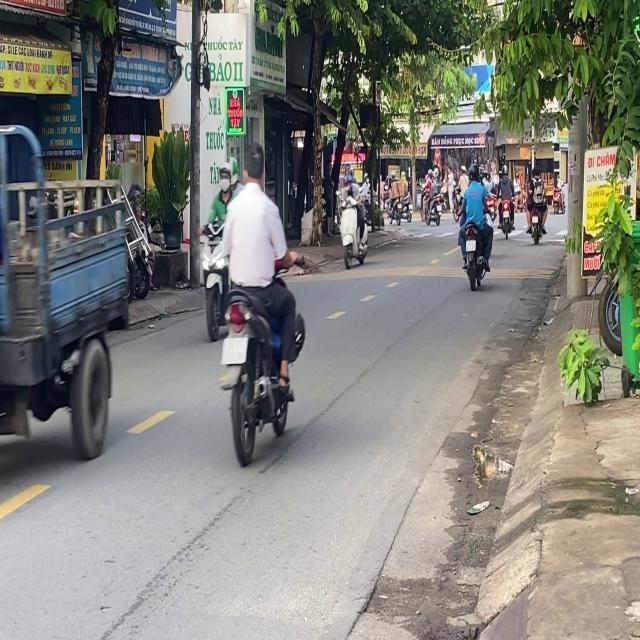helmet: (217, 159, 233, 193)
licenseplate: (215, 138, 305, 463)
motorcyclist: (241, 140, 266, 189)
nohelmet: (222, 337, 248, 363)
